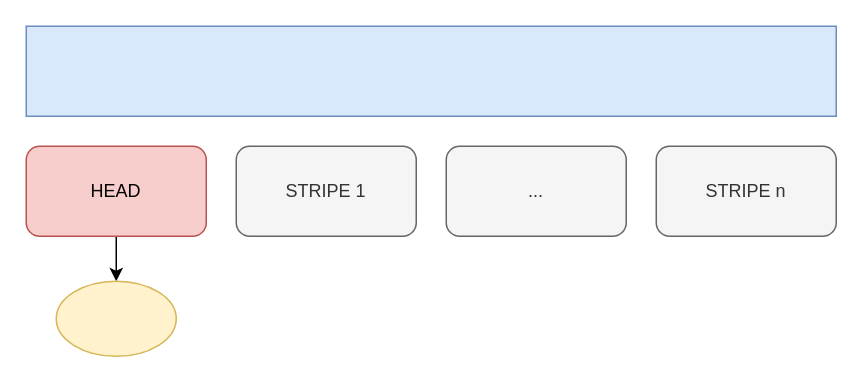
Image size: 863x383. Some labels were removed from this diagram. The centre of each missing label's shape, as x and y in pixels:
"metadata" belongs at point (115, 318).
"RGW Object" belongs at point (430, 70).
